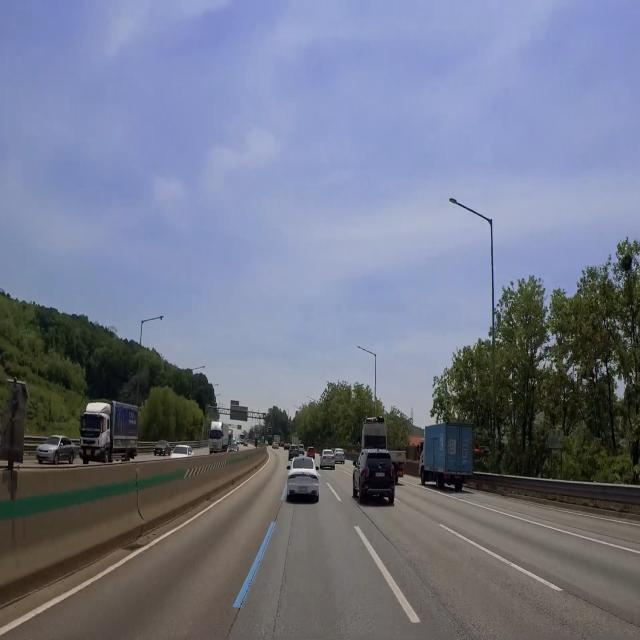car: (374, 471, 389, 483), (297, 484, 310, 497), (453, 474, 466, 483)
